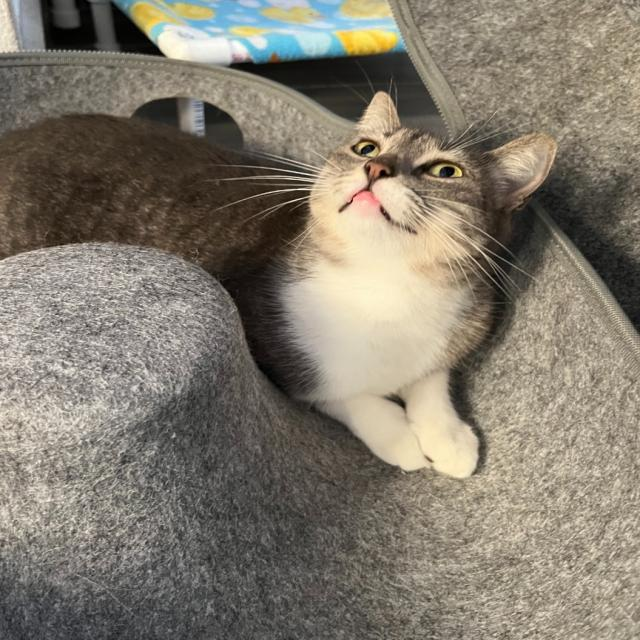american_shorthair_cat: (302, 88, 561, 286)
